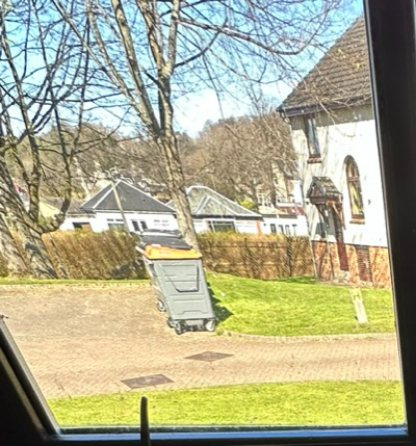tree: (0, 0, 354, 243)
